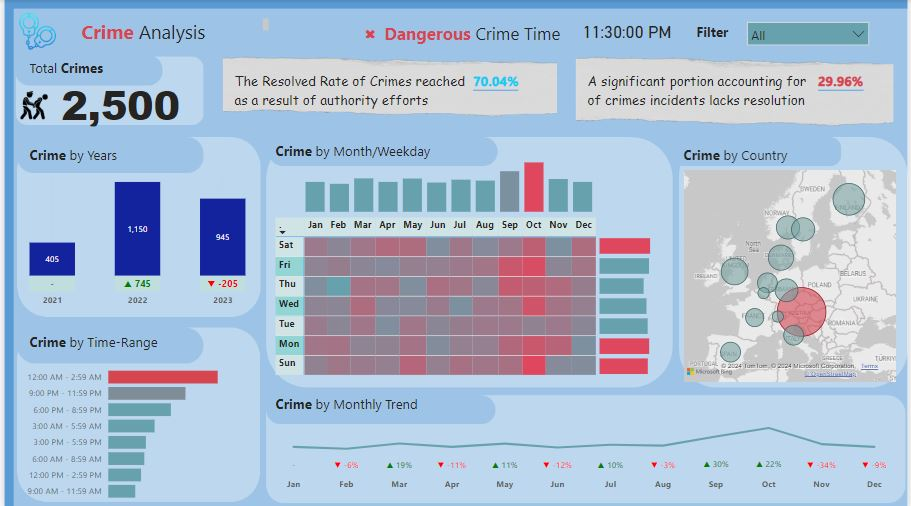

What the dashboard file says about the page in this screenshot:
{"tool":"powerbi","page":{"name":"Report","canvas":[1280,720],"ordinal":0},"visuals":[{"type":"card","fields":{"Values":["Calculations.Total Crimes"]},"box":[68,109.1,194.2,75.1],"z":0},{"type":"columnChart","fields":{"Category":["DateTable.Year"],"Y":["Calculations.Blank Measure (Year)","Calculations.Total Crimes"]},"box":[31.2,238.1,316.1,205.5],"z":1000},{"type":"lineChart","fields":{"Category":["DateTable.Month"],"Y":["Calculations.Blank Measure (Month)","Calculations.Total Crimes"]},"box":[375.6,572.6,892.9,131.8],"z":2000},{"type":"clusteredBarChart","fields":{"Category":["Crime Data.Time Group"],"Y":["Calculations.Total Crimes"]},"box":[19.8,503.1,327.4,216.9],"z":3000},{"type":"pivotTable","fields":{"Rows":["DateTable.WeekDay"],"Columns":["DateTable.Month"],"Values":["Calculations.Total Crimes"]},"box":[379.8,303.3,474.8,242.4],"z":4000},{"type":"clusteredColumnChart","fields":{"Y":["Calculations.Total Crimes"],"Category":["DateTable.Month"]},"box":[422.4,195.6,416.7,110.6],"z":5000},{"type":"clusteredBarChart","fields":{"Category":["DateTable.WeekDay"],"Y":["Calculations.Total Crimes"]},"box":[839.1,324.6,86.5,211.2],"z":6000},{"type":"textbox","box":[321.7,96.4,440.8,76.5],"z":7000},{"type":"textbox","box":[822,96.4,426.6,66.6],"z":8000},{"type":"card","fields":{"Values":["Min(Crime Data.Crime Time)"]},"box":[808,16.8,149.5,53.8],"z":9000},{"type":"map","fields":{"Category":["Crime Data.Country"],"Size":["Calculations.Total Crimes"]},"box":[957.6,234.7,311,311],"z":10000},{"type":"textbox","box":[534.2,25.2,272.1,45.4],"z":11000},{"type":"card","fields":{"Values":["Calculations.Cross"]},"box":[485.5,16.8,65.5,42],"z":12000},{"type":"textbox","box":[31.2,78,146,36.9],"z":12001},{"type":"textbox","box":[31.2,201.3,146,36.9],"z":12002},{"type":"textbox","box":[31.2,466.3,216.9,36.9],"z":12003},{"type":"textbox","box":[379.8,195.6,238.1,36.9],"z":12004},{"type":"textbox","box":[379.8,554.2,238.1,36.9],"z":12005},{"type":"textbox","box":[104.9,21.3,275,45.4],"z":12006},{"type":"textbox","box":[976.5,26.9,78,36.9],"z":12007},{"type":"textbox","box":[958.1,201.3,170.1,36.9],"z":12008},{"type":"slicer","fields":{"Values":["Crime Types.Crime"]},"box":[1043.1,21.3,192.8,52.4],"z":12009}]}

Visuals, with their boxes in screenshot pixels (x1, y1, x2, y2), scaled from the page's 1280x720 canvas onto the 911x506 screenshot:
card - Calculations.Total Crimes: pyautogui.locateOnScreen(48, 77, 187, 129)
columnChart - DateTable.Year x Calculations.Blank Measure (Year): pyautogui.locateOnScreen(22, 167, 247, 312)
lineChart - DateTable.Month x Calculations.Blank Measure (Month): pyautogui.locateOnScreen(267, 402, 903, 495)
clusteredBarChart - Crime Data.Time Group x Calculations.Total Crimes: pyautogui.locateOnScreen(14, 354, 247, 505)
pivotTable - DateTable.WeekDay x DateTable.Month: pyautogui.locateOnScreen(270, 213, 608, 384)
clusteredColumnChart - Calculations.Total Crimes x DateTable.Month: pyautogui.locateOnScreen(301, 137, 597, 215)
clusteredBarChart - DateTable.WeekDay x Calculations.Total Crimes: pyautogui.locateOnScreen(597, 228, 659, 377)
textbox: pyautogui.locateOnScreen(229, 68, 543, 122)
textbox: pyautogui.locateOnScreen(585, 68, 889, 115)
card - Min(Crime Data.Crime Time): pyautogui.locateOnScreen(575, 12, 681, 50)
map - Crime Data.Country x Calculations.Total Crimes: pyautogui.locateOnScreen(682, 165, 903, 384)
textbox: pyautogui.locateOnScreen(380, 18, 574, 50)
card - Calculations.Cross: pyautogui.locateOnScreen(346, 12, 392, 41)
textbox: pyautogui.locateOnScreen(22, 55, 126, 81)
textbox: pyautogui.locateOnScreen(22, 141, 126, 167)
textbox: pyautogui.locateOnScreen(22, 328, 177, 354)
textbox: pyautogui.locateOnScreen(270, 137, 440, 163)
textbox: pyautogui.locateOnScreen(270, 389, 440, 415)
textbox: pyautogui.locateOnScreen(75, 15, 270, 47)
textbox: pyautogui.locateOnScreen(695, 19, 751, 45)
textbox: pyautogui.locateOnScreen(682, 141, 803, 167)
slicer - Crime Types.Crime: pyautogui.locateOnScreen(742, 15, 880, 52)
